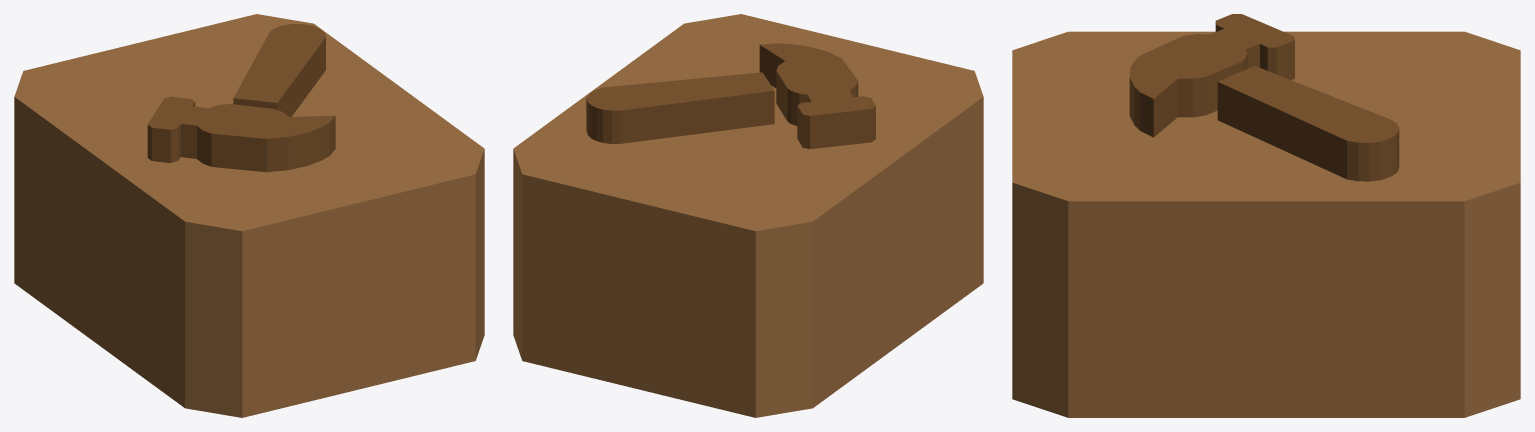
Rendered from Ore.glb.
3 renders of one model, left to right at view 1: azimuth 30°, elevation 25°; view 2: azimuth 150°, elevation 25°; view 3: azimuth 270°, elevation 25°, orthographic. The views are drawn at different scales.
Parts seen in each view (by area): view 1: Cube, Plane; view 2: Cube, Plane; view 3: Cube, Plane.
Part boxes in pixels (<box>): Cube: <box>14,14,484,417</box>; Plane: <box>147,24,335,172</box>; Cube: <box>513,14,983,417</box>; Plane: <box>586,43,875,149</box>; Cube: <box>1012,31,1520,417</box>; Plane: <box>1129,14,1399,181</box>.
Bounding box in the file's own units: 0.2749 × 0.193 × 0.3482.
